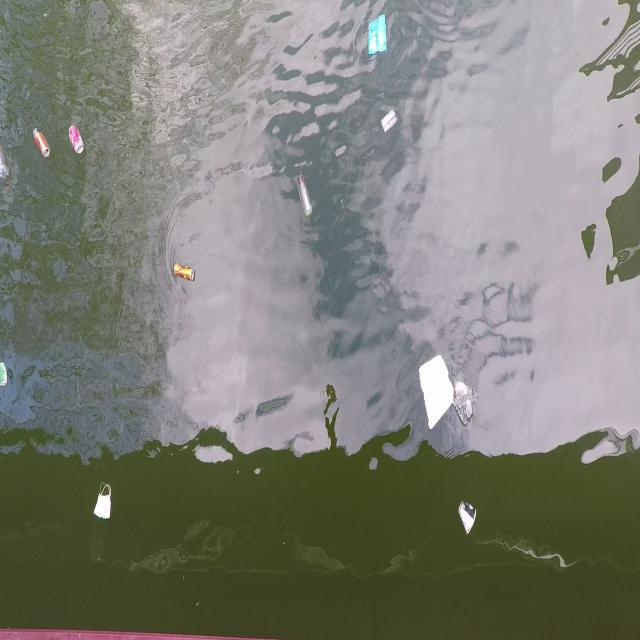Autre plastique: (416, 342, 456, 436)
Bouteille plastique: (294, 170, 314, 218)
Non plastique: (90, 480, 118, 526), (456, 496, 482, 539), (28, 124, 54, 166), (66, 120, 87, 160), (170, 257, 199, 285), (0, 366, 12, 393)
Sac plastique: (453, 378, 480, 429)
